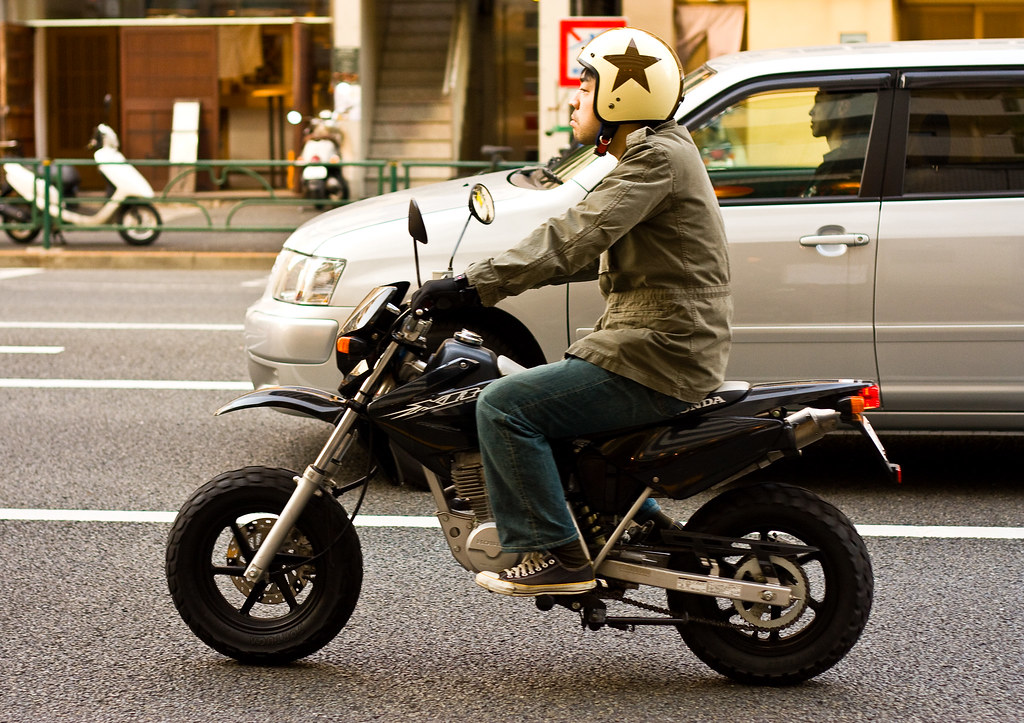helmet: (579, 28, 679, 139)
